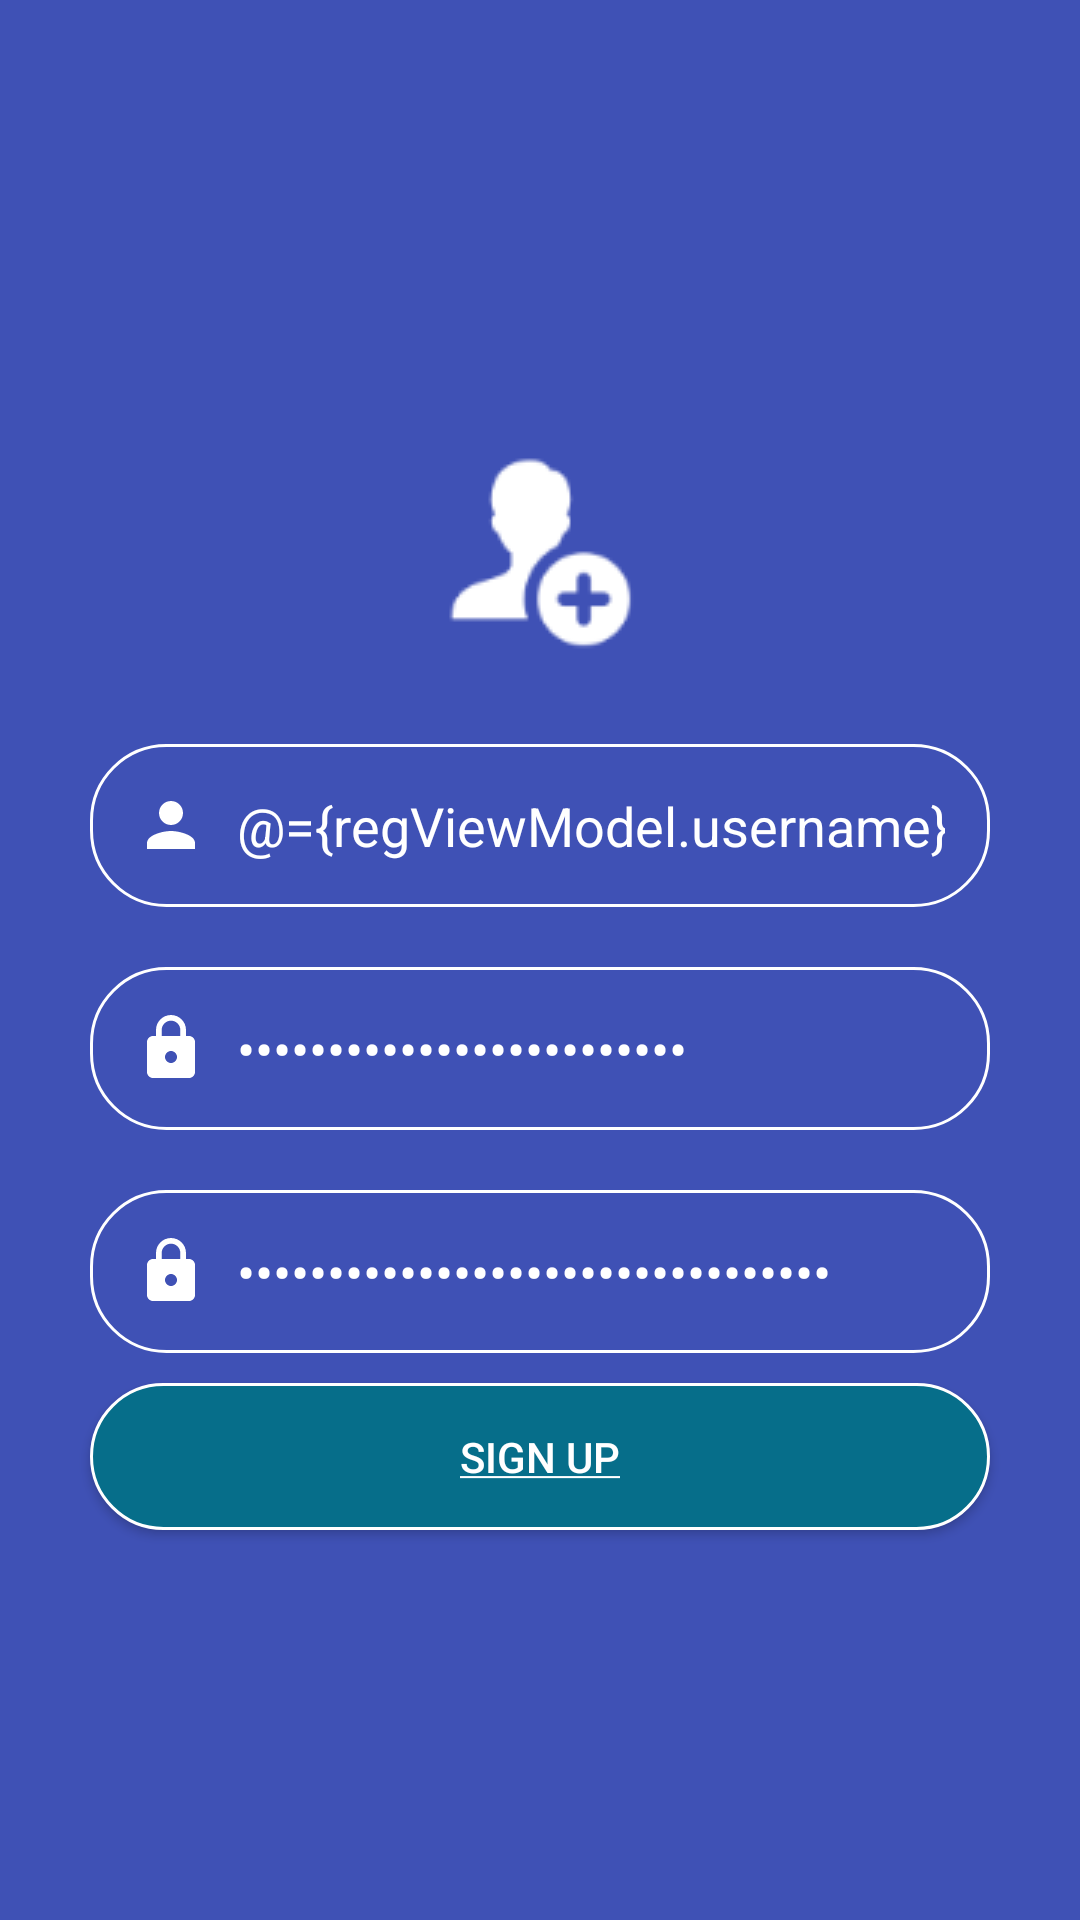

Icons on this 1080x1920 Android screen, each with the point to tap as [x,y]:
signup: [540,552]
